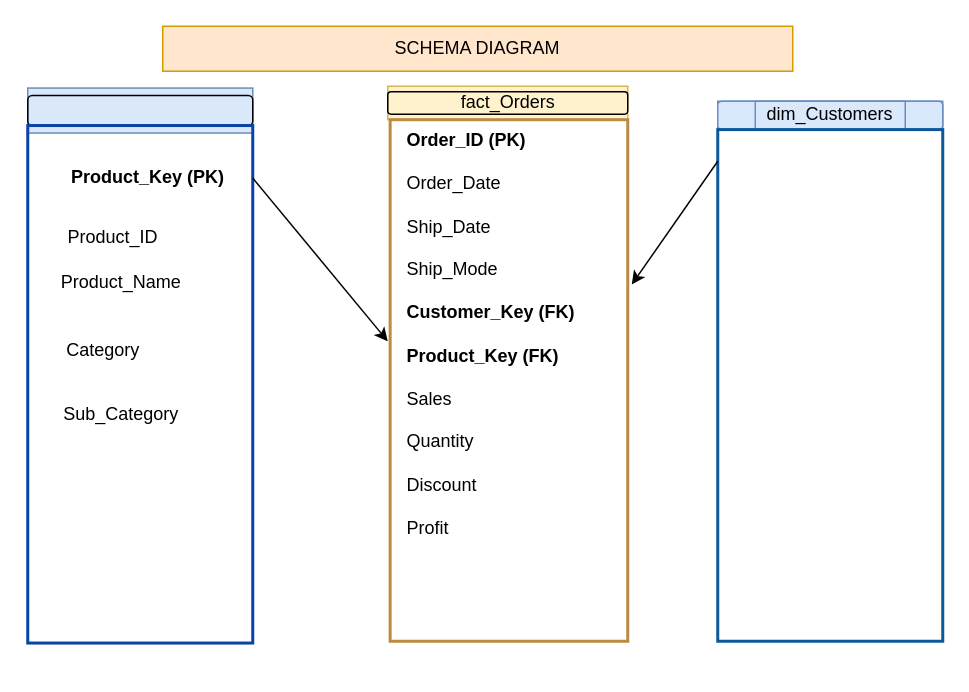
Some shapes in this 969 by 692 pixel diagram are drawn without their labels. Here are the shapes that lost their labels. From the top down, the centre of each, then its label:
At pixel 139 110: "dim_Products".
At pixel 830 384: "Customer_Key (PK) Customer_ID Customer_Name Segment City State Region".
